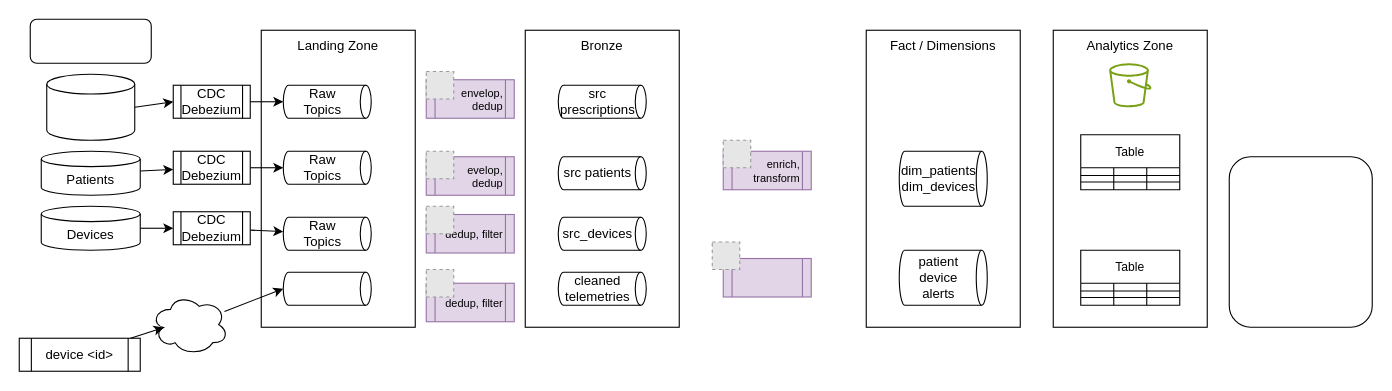
Some shapes in this 1392 by 391 pixel diagram are drawn without their labels. Grey dashed boxes stand in for pictures. Each missing label, with the centre of its shape:
"BI Dashboard" belongs at [1300,241].
"MQTT" belongs at [189,324].
"Prescriptions" belongs at [90,106].
"telemetries" belongs at [326,288].
"Web Portal" belongs at [90,40].
"windowing stateful" belongs at [766,277].
